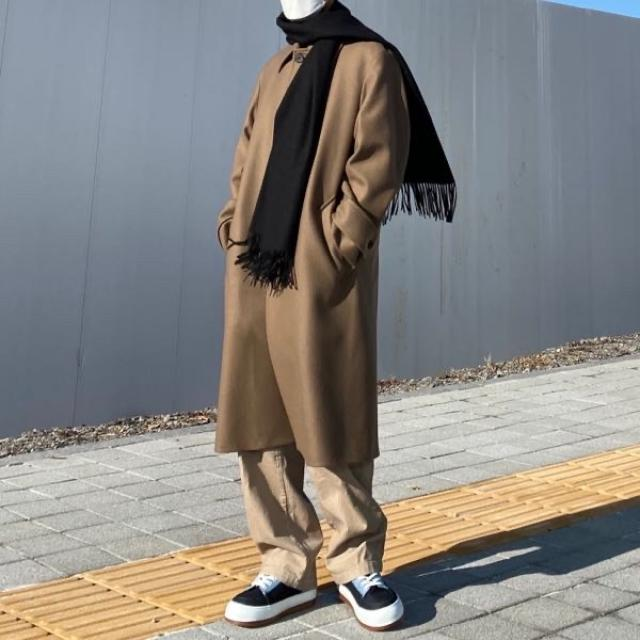coat: (214, 34, 398, 470)
cottonpants: (242, 444, 393, 586)
